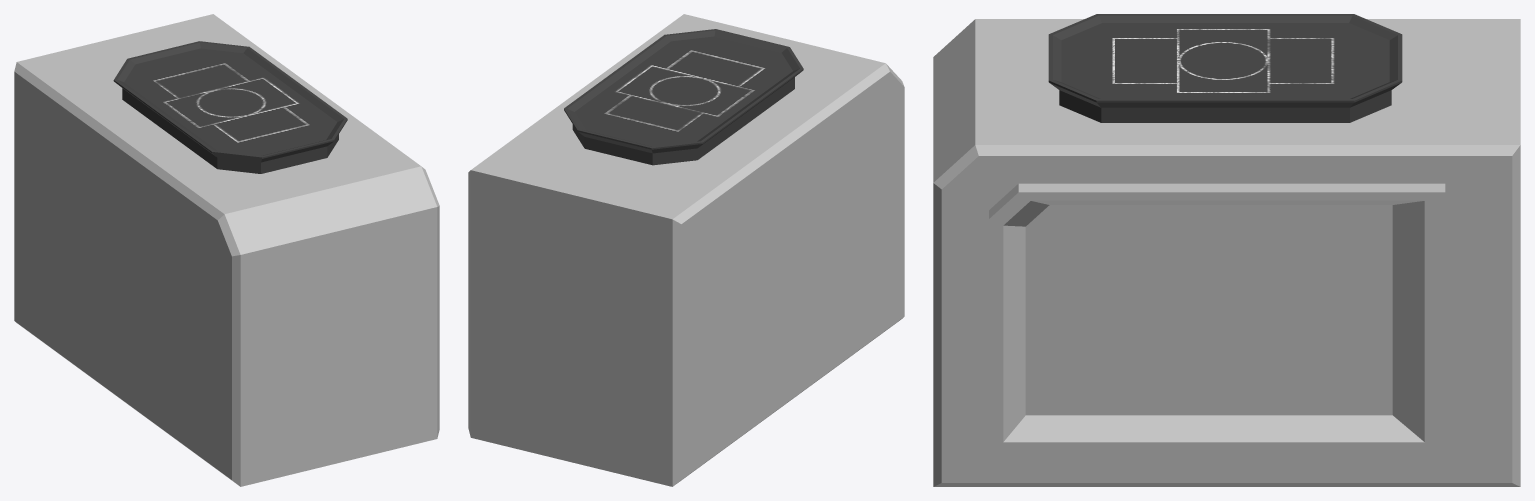
Rendered from SpaceStationSegment.FBX.
The picture shows the model from 3 angles, left to right: view 1: azimuth 30°, elevation 25°; view 2: azimuth 150°, elevation 25°; view 3: azimuth 270°, elevation 25°; orthographic projection. The views are drawn at different scales.
Parts seen in each view (by area): view 1: Box001, Box002; view 2: Box001, Box002; view 3: Box001, Box002.
Part boxes in pixels (x1,y1,x2,y2): Box001: (14,14,439,486); Box002: (113,41,347,173); Box001: (468,14,904,486); Box002: (564,29,803,165); Box001: (933,19,1520,486); Box002: (1048,14,1402,122).
Bounding box in the file's own units: 157 × 191 × 276.
